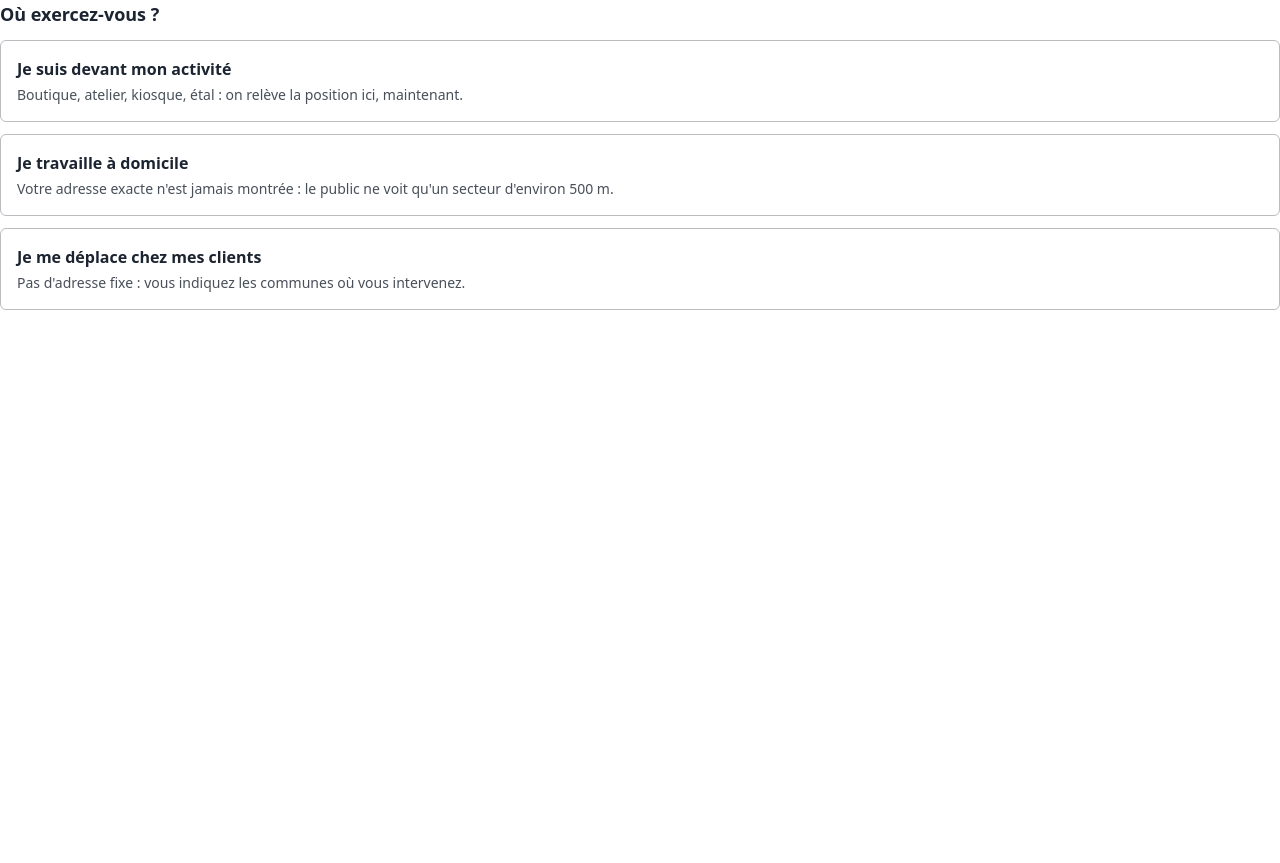
Test: ListingForm › shows the API's message next to the field it concerns
Click the text "Je travaille à domicile" at (103, 163), box [17,152,188,174]
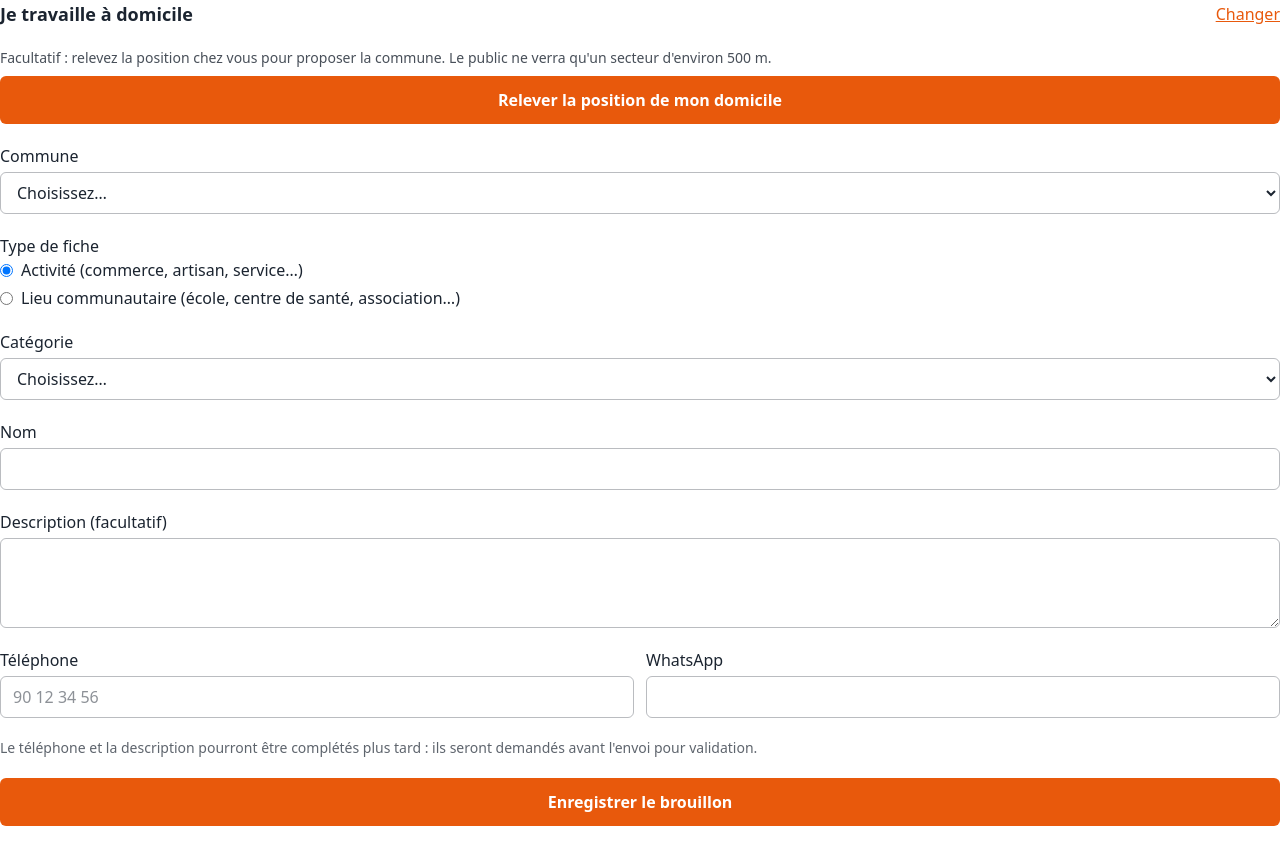
Click the button "Enregistrer le brouillon" at (640, 802), box [0,778,1279,826]
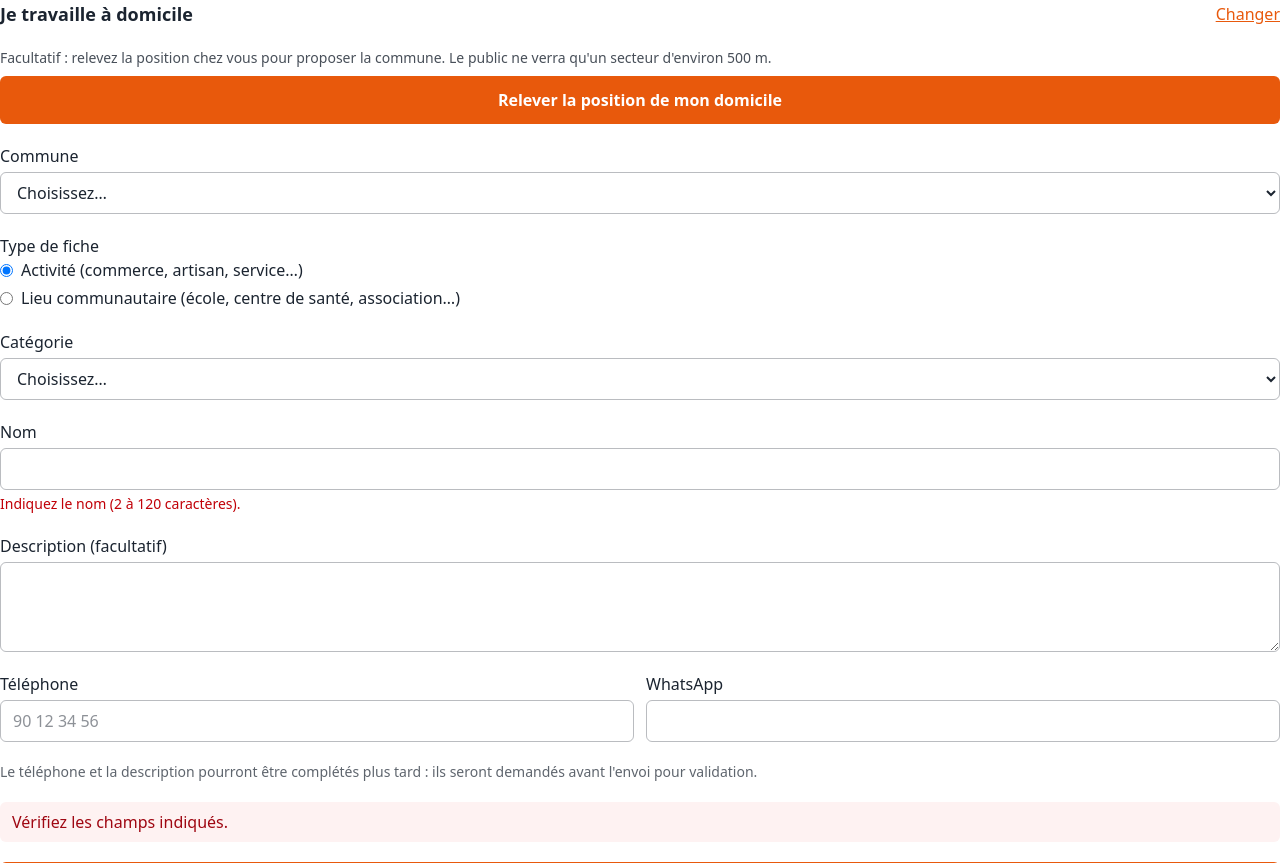
Check: the text "Indiquez le nom (2 à 120 caractères)." is shown, box [0,494,240,513]
